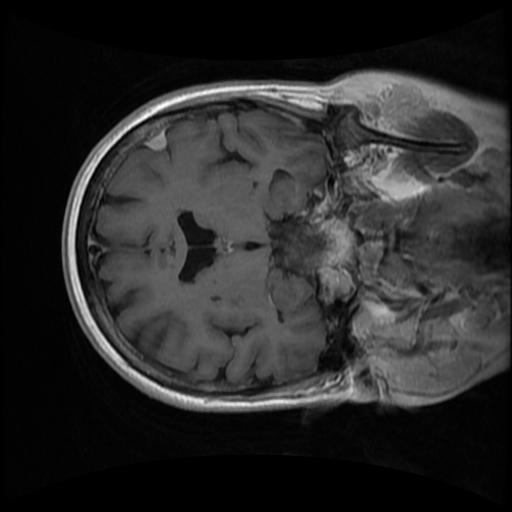meningioma: (141, 130, 166, 151)
